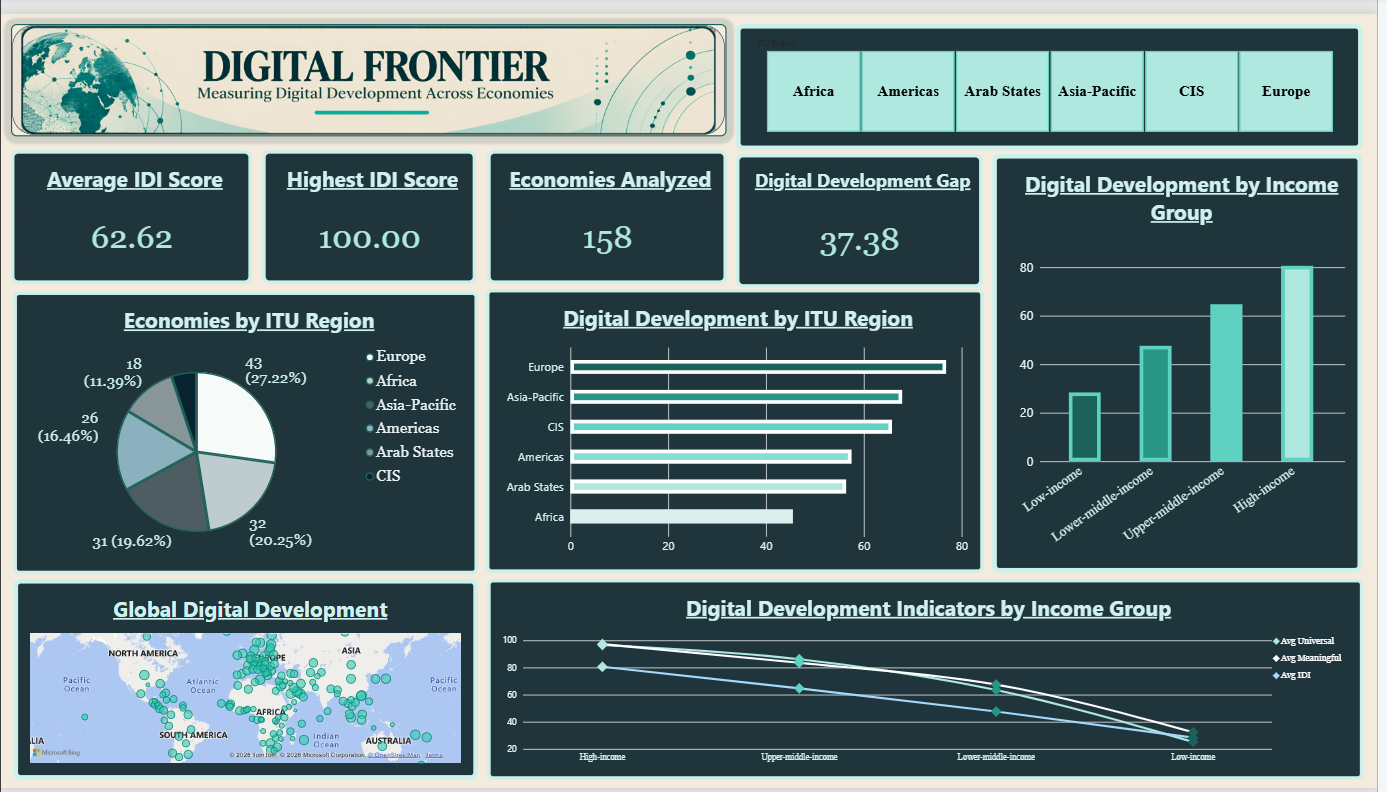

The page's visual inventory and layout, read from the dashboard file:
{"tool":"powerbi","page":{"name":"Executive Overview","canvas":[1920,1080],"ordinal":0},"visuals":[{"type":"clusteredBarChart","title":"Digital Development by ITU Region","fields":{"Category":["IDI_2026.ITU Region"],"Y":["IDI_2026.Avg IDI"]},"box":[676,384,694,396],"z":0},{"type":"cardVisual","title":"Digital Development Gap","fields":{"Data":["IDI_2026.Digital Development Gap"]},"box":[1026,196,344,186],"z":1000},{"type":"image","box":[14,14,998.3,156.4],"z":2000},{"type":"slicer","title":"Regions","fields":{"Values":["IDI_2026.ITU Region"]},"box":[1026,14,874,176],"z":3000},{"type":"cardVisual","title":"Economies Analyzed","fields":{"Data":["IDI_2026.Economies Analysed"]},"box":[678,190,334,186],"z":4000},{"type":"cardVisual","title":"Highest IDI Score","fields":{"Data":["IDI_2026.Highest IDI Score"]},"box":[364,190,298,186],"z":5000},{"type":"cardVisual","title":"Average IDI Score","fields":{"Data":["IDI_2026.Average IDI Score"]},"box":[14,190,336,186],"z":6000},{"type":"pieChart","title":"Economies by ITU Region","fields":{"Category":["IDI_2026.ITU Region"],"Y":["CountNonNull(IDI_2026.Economy)"]},"box":[18,388,648,394],"z":7000},{"type":"clusteredColumnChart","title":"Digital Development by Income Group","fields":{"Category":["IDI_2026.World Bank Income Group"],"Y":["IDI_2026.Avg IDI"]},"box":[1384,196,516,584],"z":8000},{"type":"map","title":"Global Digital Development","fields":{"Category":["IDI_2026.Economy"],"Size":["IDI_2026.Avg IDI"]},"box":[18,788,648,280],"z":9000},{"type":"lineChart","title":"Digital Development Indicators by Income Group","fields":{"Category":["IDI_2026.World Bank Income Group"],"Y":["IDI_2026.Avg Universal","IDI_2026.Avg Meaningful","IDI_2026.Avg IDI"]},"box":[678,788,1222,280],"z":10000}]}

Visuals, with their boxes in screenshot pixels (x1, y1, x2, y2), scaled from the page's 1920x1080 canvas onto the 1387x792 screenshot:
"Digital Development by ITU Region" clusteredBarChart: pyautogui.locateOnScreen(488, 282, 990, 572)
"Digital Development Gap" cardVisual: pyautogui.locateOnScreen(741, 144, 990, 280)
image: pyautogui.locateOnScreen(10, 10, 731, 125)
"Regions" slicer: pyautogui.locateOnScreen(741, 10, 1373, 139)
"Economies Analyzed" cardVisual: pyautogui.locateOnScreen(490, 139, 731, 276)
"Highest IDI Score" cardVisual: pyautogui.locateOnScreen(263, 139, 478, 276)
"Average IDI Score" cardVisual: pyautogui.locateOnScreen(10, 139, 253, 276)
"Economies by ITU Region" pieChart: pyautogui.locateOnScreen(13, 285, 481, 573)
"Digital Development by Income Group" clusteredColumnChart: pyautogui.locateOnScreen(1000, 144, 1373, 572)
"Global Digital Development" map: pyautogui.locateOnScreen(13, 578, 481, 783)
"Digital Development Indicators by Income Group" lineChart: pyautogui.locateOnScreen(490, 578, 1373, 783)
